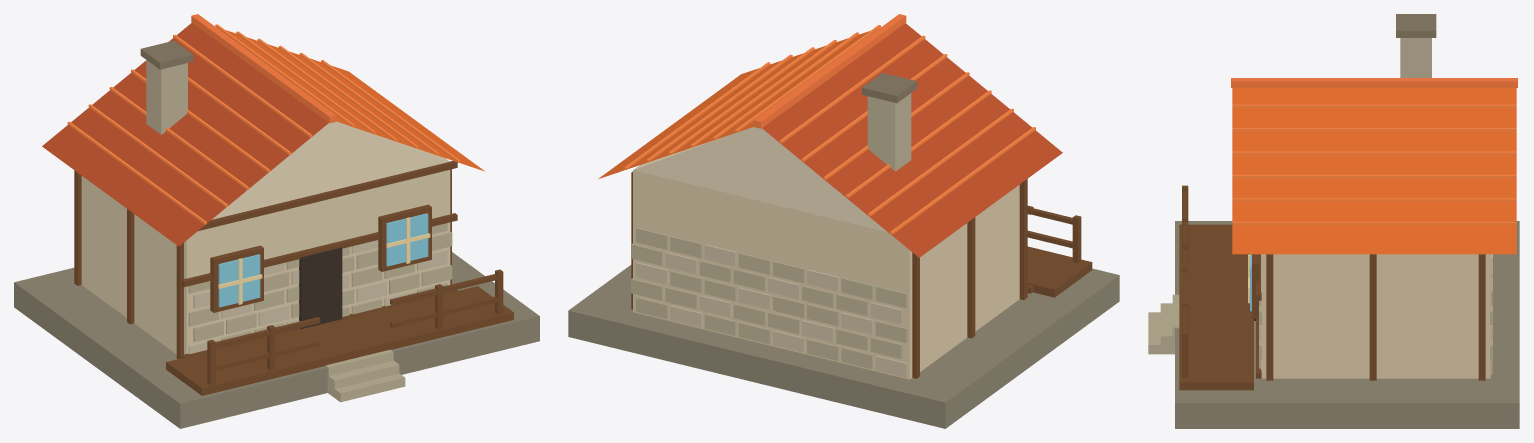
The model's file is highland-lodge.glb.
3 views of the same model, side by side, from view 1: azimuth 30°, elevation 25°; view 2: azimuth 150°, elevation 25°; view 3: azimuth 270°, elevation 25° (orthographic). The views are drawn at different scales.
Parts seen in each view (by area): view 1: Palette; view 2: Palette; view 3: Palette.
Part boxes in pixels (x1,y1,x2,y2): Palette: (14,14,539,428); Palette: (568,14,1119,428); Palette: (1148,14,1519,428).
Size of the model in its own units: 15 by 10.64 by 12.93.
1 material, 1 textured.
